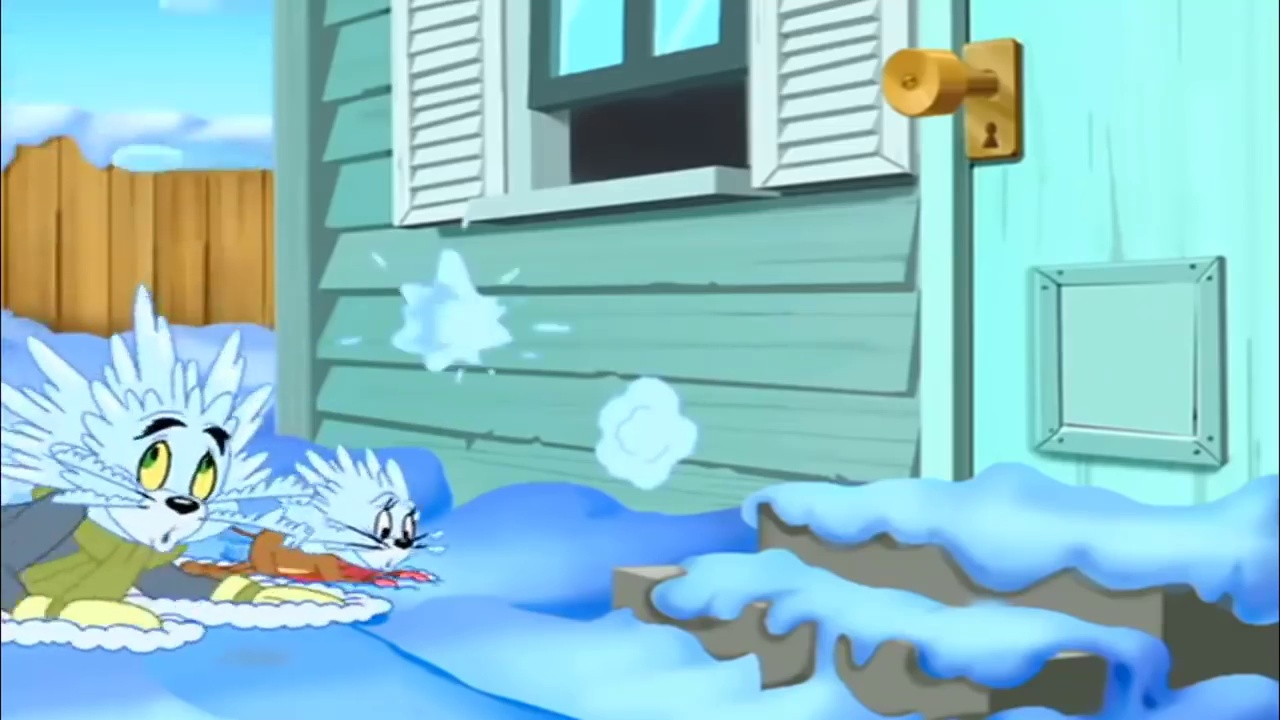face: (116, 412, 240, 554), (353, 497, 425, 580)
